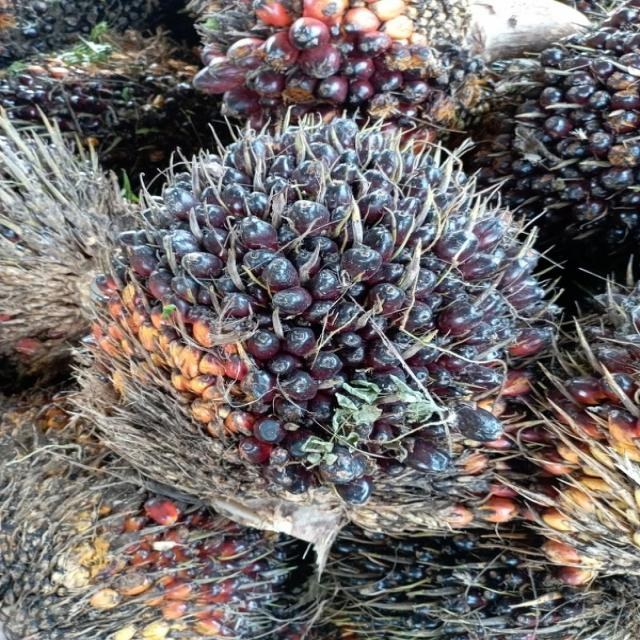fraksi 00: (122, 123, 552, 537), (503, 12, 640, 230), (2, 36, 233, 141)
fraksi 1: (169, 0, 494, 131)
